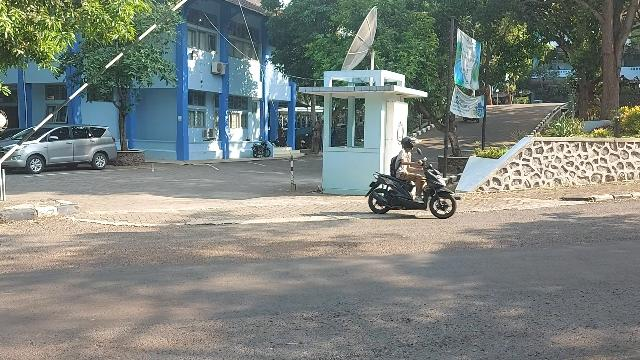helm: (403, 137, 420, 151)
motor: (367, 149, 458, 220)
